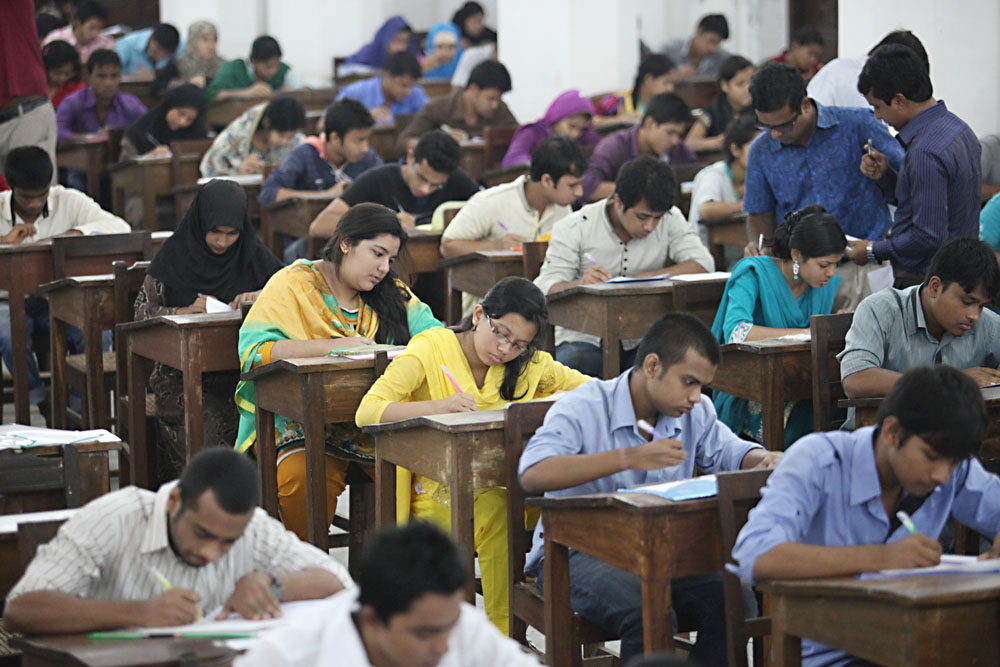invigilator: (861, 46, 984, 269), (753, 70, 871, 279)
student: (747, 362, 993, 576), (529, 328, 748, 503), (364, 289, 577, 446), (237, 214, 440, 374), (128, 180, 295, 367), (837, 235, 997, 391), (720, 209, 874, 353), (445, 140, 607, 273), (542, 172, 703, 303), (327, 125, 477, 238), (1, 138, 117, 273), (599, 102, 700, 172)
studentcopying: (291, 100, 398, 186)
